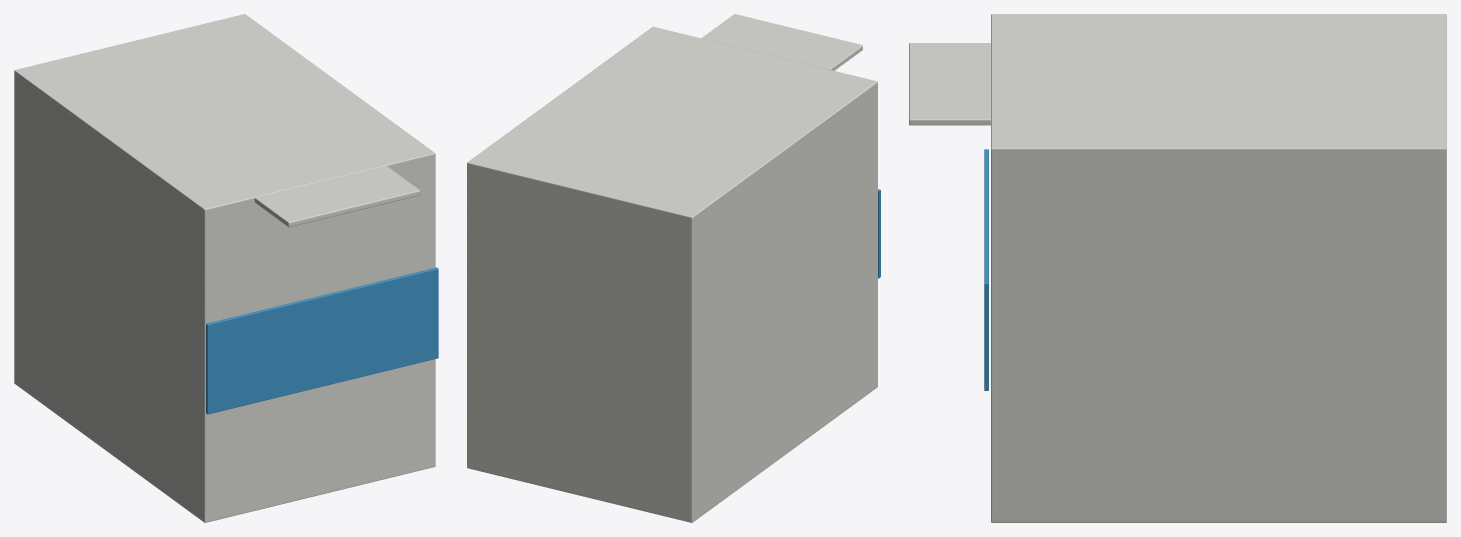
File: carton.glb
The picture shows the model from 3 angles, left to right: view 1: azimuth 30°, elevation 25°; view 2: azimuth 150°, elevation 25°; view 3: azimuth 270°, elevation 25°; orthographic projection. The views are drawn at different scales.
Visible parts, largest first — view 1: test_medicine_box__side-1, test_medicine_box__end-1, test_medicine_box__lid, test_medicine_box__stripe, test_medicine_box__tab, test_medicine_box__base, test_medicine_box__end1, test_medicine_box__side1; view 2: test_medicine_box__end1, test_medicine_box__side-1, test_medicine_box__lid, test_medicine_box__tab, test_medicine_box__base, test_medicine_box__side1; view 3: test_medicine_box__side1, test_medicine_box__lid, test_medicine_box__tab, test_medicine_box__base, test_medicine_box__end-1, test_medicine_box__end1, test_medicine_box__stripe.
Boxes of the visible parts, x1=… form: test_medicine_box__side-1: x1=16, y1=76, x2=208, y2=522; test_medicine_box__end-1: x1=202, y1=156, x2=435, y2=522; test_medicine_box__lid: x1=14, y1=14, x2=435, y2=213; test_medicine_box__stripe: x1=206, y1=267, x2=438, y2=414; test_medicine_box__tab: x1=254, y1=165, x2=420, y2=227; test_medicine_box__base: x1=14, y1=379, x2=435, y2=521; test_medicine_box__end1: x1=14, y1=74, x2=16, y2=384; test_medicine_box__side1: x1=432, y1=158, x2=435, y2=467; test_medicine_box__end1: x1=467, y1=166, x2=694, y2=522; test_medicine_box__side-1: x1=688, y1=86, x2=877, y2=522; test_medicine_box__lid: x1=467, y1=26, x2=877, y2=220; test_medicine_box__tab: x1=701, y1=14, x2=862, y2=70; test_medicine_box__base: x1=467, y1=382, x2=877, y2=521; test_medicine_box__side1: x1=467, y1=167, x2=470, y2=468; test_medicine_box__side1: x1=991, y1=152, x2=1446, y2=522; test_medicine_box__lid: x1=991, y1=14, x2=1446, y2=153; test_medicine_box__tab: x1=909, y1=43, x2=990, y2=125; test_medicine_box__base: x1=991, y1=517, x2=1446, y2=521; test_medicine_box__end-1: x1=991, y1=152, x2=996, y2=522; test_medicine_box__end1: x1=1441, y1=152, x2=1446, y2=522; test_medicine_box__stripe: x1=984, y1=149, x2=988, y2=390.
Size of the model in its own units: 0.07 by 0.0908 by 0.118.
